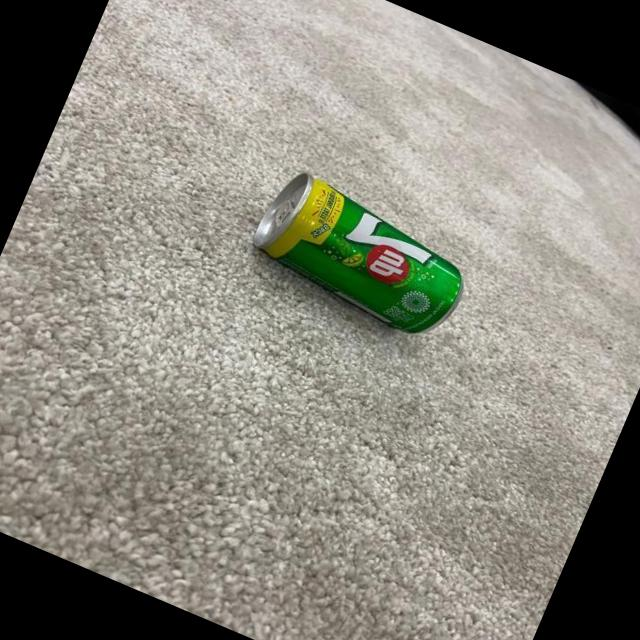Kaleng: (240, 160, 484, 348)
